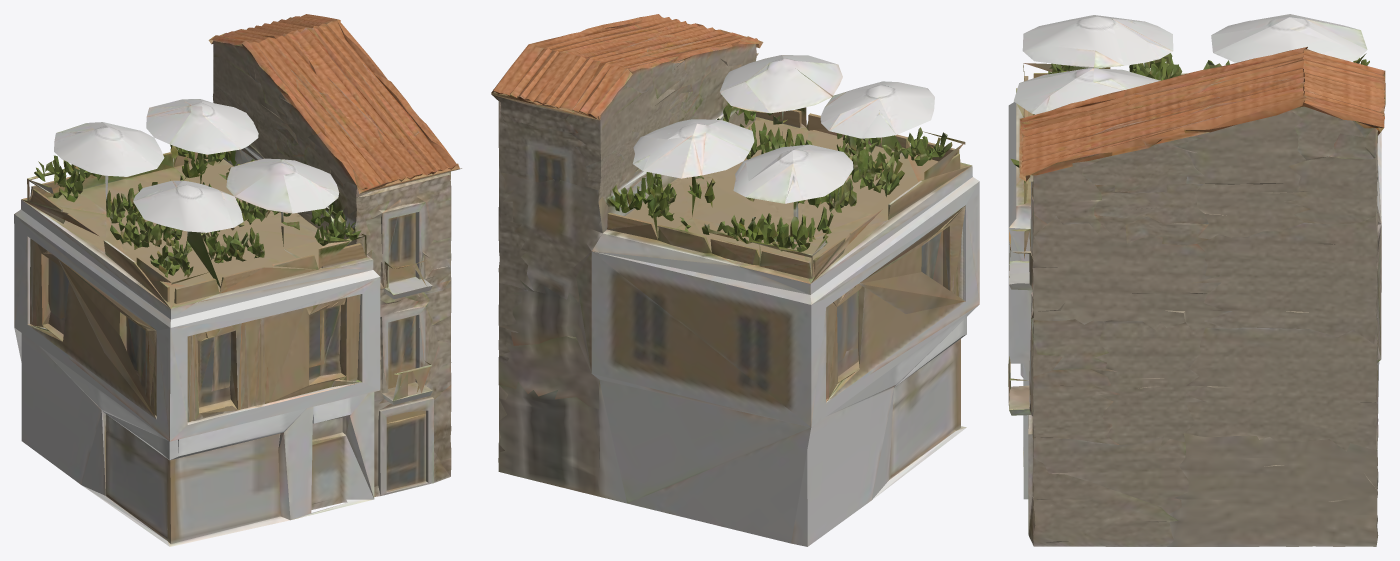
Rendered from juice_bar.glb.
3 views of the same model, side by side, from view 1: azimuth 30°, elevation 25°; view 2: azimuth 150°, elevation 25°; view 3: azimuth 270°, elevation 25° (orthographic). The views are drawn at different scales.
Visible parts, largest first — view 1: Mesh_0; view 2: Mesh_0; view 3: Mesh_0.
Part boxes in pixels (left/top/right/bottom): Mesh_0: left=14, top=14, right=461, bottom=546; Mesh_0: left=491, top=14, right=979, bottom=546; Mesh_0: left=1008, top=14, right=1385, bottom=546.
Bounding box in the file's own units: 9 × 10.83 × 8.28.
1 material, 1 textured.
